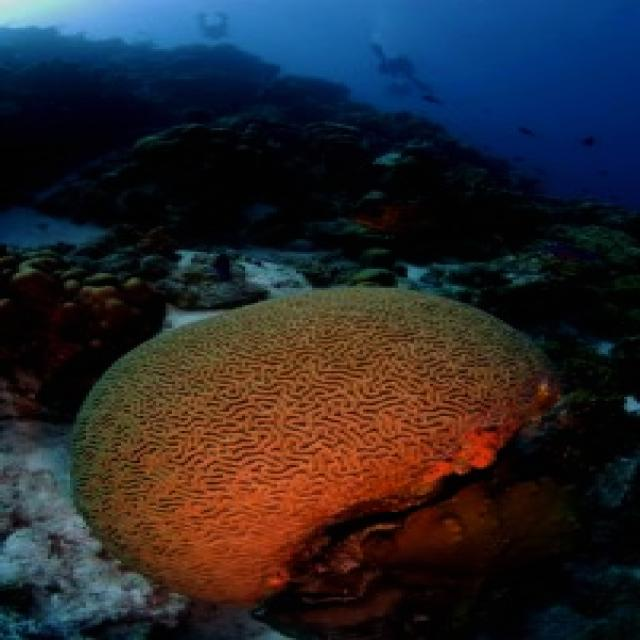Coral: (69, 285, 562, 608)
